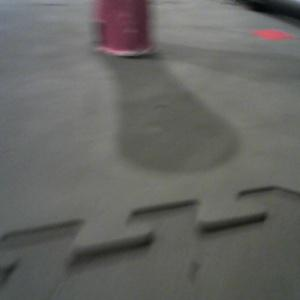middle: (90, 1, 156, 58)
